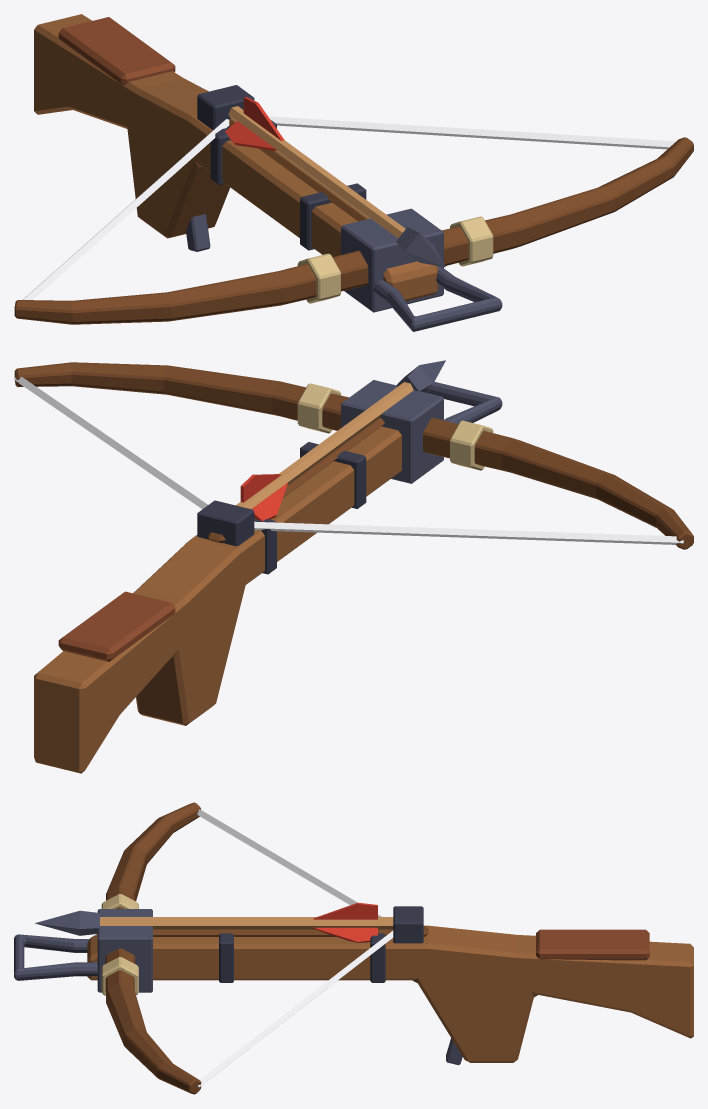
The model's file is myw_crossbow.glb.
3 renders of one model, top to bottom at view 1: azimuth 30°, elevation 25°; view 2: azimuth 150°, elevation 25°; view 3: azimuth 270°, elevation 25°, orthographic. The views are drawn at different scales.
Visible parts, largest first — view 1: Stock, Prod, Metal, Bolt, Cheek, String_R, String_L; view 2: Stock, Prod, Metal, Bolt, Cheek, String_L, String_R; view 3: Stock, Prod, Metal, Bolt, Cheek, String_R, String_L.
Boxes of the visible parts, x1,y1,x2,y2 form: Stock: (34, 14, 438, 301); Prod: (14, 137, 693, 324); Metal: (186, 85, 502, 331); Bolt: (225, 97, 445, 267); Cheek: (58, 17, 175, 85); String_R: (268, 116, 675, 149); String_L: (14, 119, 229, 307); Stock: (34, 418, 401, 773); Prod: (14, 362, 693, 549); Metal: (197, 380, 502, 574); Bolt: (236, 360, 445, 521); Cheek: (58, 591, 175, 661); String_L: (254, 521, 683, 544); String_R: (14, 376, 207, 509); Stock: (87, 925, 693, 1062); Prod: (101, 802, 201, 1094); Metal: (14, 906, 462, 1065); Bolt: (35, 902, 393, 942); Cheek: (536, 929, 649, 960); String_R: (197, 930, 393, 1087); String_L: (197, 809, 381, 916).
Bounding box in the file's own units: 2.63 × 0.6989 × 2.69.
